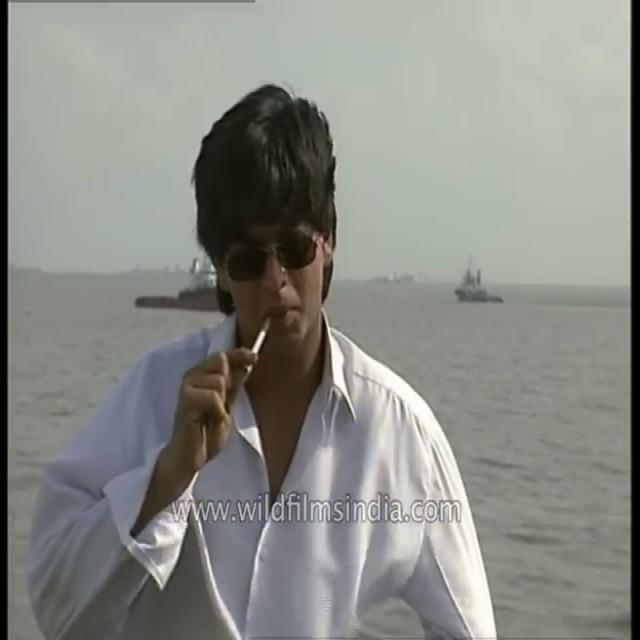Smooking: (241, 307, 273, 373)
